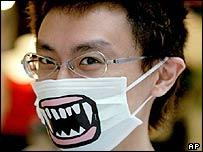Wearing Mask: (18, 0, 180, 152)
